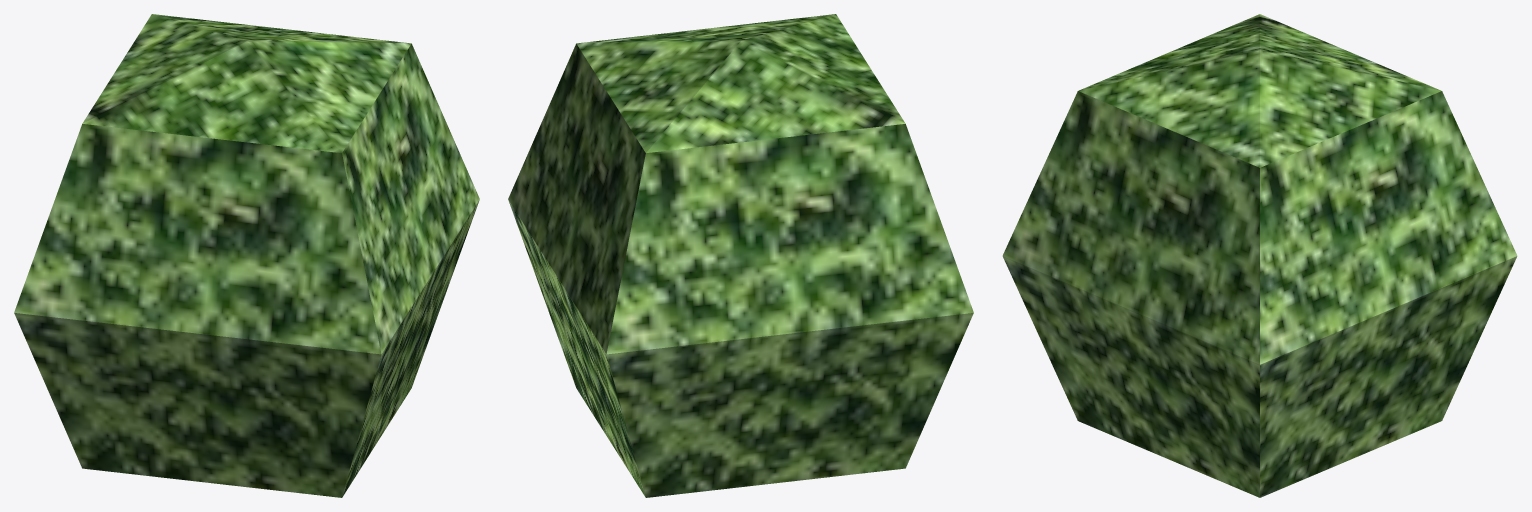
Rendered from bush.fbx.
The picture shows the model from 3 angles, left to right: view 1: azimuth 30°, elevation 25°; view 2: azimuth 150°, elevation 25°; view 3: azimuth 270°, elevation 25°; orthographic projection. The views are drawn at different scales.
Parts seen in each view (by area): view 1: bush; view 2: bush; view 3: bush.
Part boxes in pixels (x1,y1,x2,y2): bush: (14, 14, 479, 497); bush: (508, 14, 973, 497); bush: (1002, 14, 1517, 497).
Size of the model in its own units: 139 by 139 by 110.
